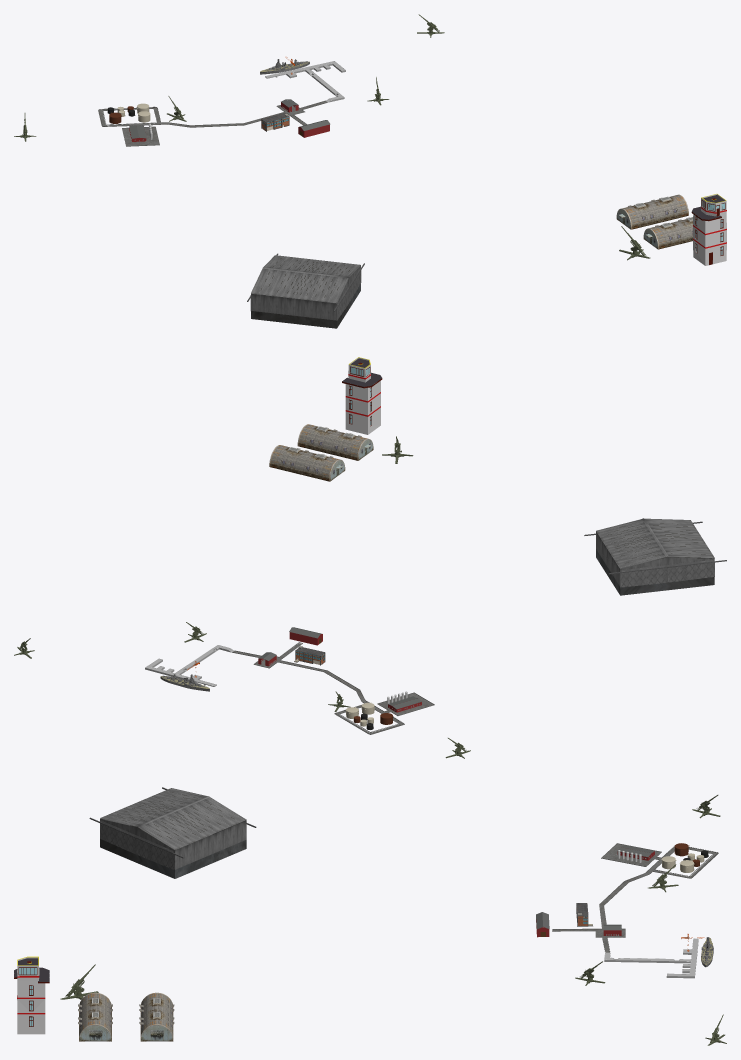
The model's file is Kronstadt.glb.
The picture shows the model from 3 angles, top to bottom: view 1: azimuth 30°, elevation 25°; view 2: azimuth 150°, elevation 25°; view 3: azimuth 270°, elevation 25°; orthographic projection. The views are drawn at different scales.
Parts seen in each view (by area): view 1: Object_2, factory_port_06:middle_tank07_factory_port_06:tank_blue_0, German.Control.Tower.1.700, Cylinder001_Barrack Texture Map_0.002, Cylinder001_Barrack Texture Map_0.001; view 2: Object_2, factory_port_06:middle_tank07_factory_port_06:tank_blue_0, German.Control.Tower.1.700, Cylinder001_Barrack Texture Map_0.002, Cylinder001_Barrack Texture Map_0.001; view 3: Object_2, factory_port_06:middle_tank07_factory_port_06:tank_blue_0, German.Control.Tower.1.700, Cylinder001_Barrack Texture Map_0.002, Cylinder001_Barrack Texture Map_0.001.
Part boxes in pixels (x1=…): Object_2: x1=247, y1=253, x2=364, y2=328; factory_port_06:middle_tank07_factory_port_06:tank_blue_0: x1=98, y1=57, x2=345, y2=146; German.Control.Tower.1.700: x1=691, y1=194, x2=726, y2=265; Cylinder001_Barrack Texture Map_0.002: x1=616, y1=194, x2=688, y2=229; Cylinder001_Barrack Texture Map_0.001: x1=643, y1=217, x2=692, y2=249; Object_2: x1=584, y1=518, x2=726, y2=595; factory_port_06:middle_tank07_factory_port_06:tank_blue_0: x1=145, y1=627, x2=434, y2=734; German.Control.Tower.1.700: x1=342, y1=357, x2=382, y2=434; Cylinder001_Barrack Texture Map_0.002: x1=269, y1=445, x2=345, y2=481; Cylinder001_Barrack Texture Map_0.001: x1=297, y1=424, x2=373, y2=460; Object_2: x1=89, y1=787, x2=256, y2=878; factory_port_06:middle_tank07_factory_port_06:tank_blue_0: x1=536, y1=843, x2=718, y2=978; German.Control.Tower.1.700: x1=14, y1=956, x2=49, y2=1034; Cylinder001_Barrack Texture Map_0.002: x1=139, y1=992, x2=174, y2=1041; Cylinder001_Barrack Texture Map_0.001: x1=78, y1=992, x2=112, y2=1041.
Size of the model in its own units: 205 by 30.66 by 255.
34 materials, 5 textured.
